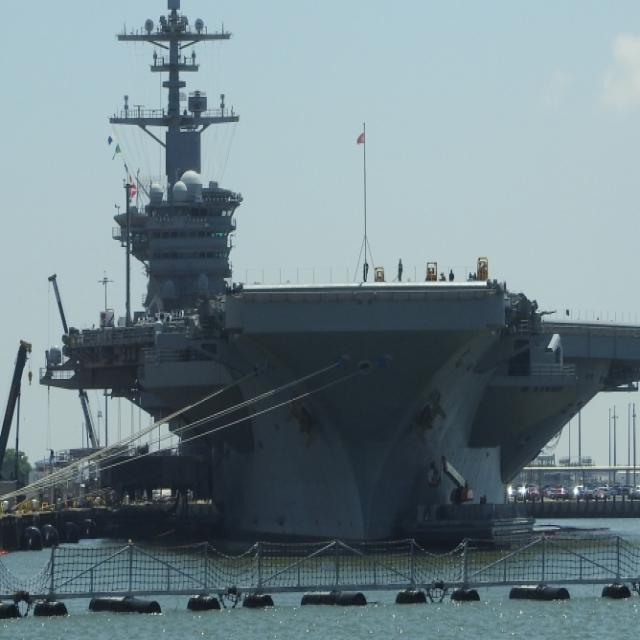Portanaves: (38, 1, 640, 564)
